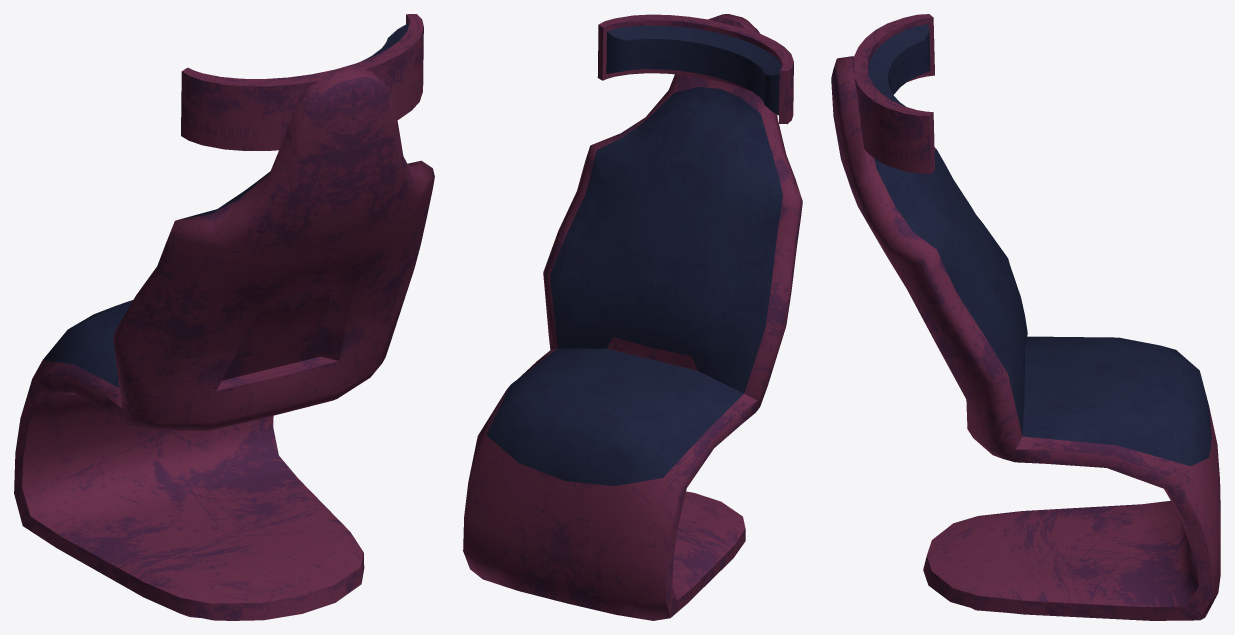
Rendered from Prop_Chair.gltf.
3 renders of one model, left to right at view 1: azimuth 30°, elevation 25°; view 2: azimuth 150°, elevation 25°; view 3: azimuth 270°, elevation 25°, orthographic. The views are drawn at different scales.
Parts seen in each view (by area): view 1: Prop_Chair; view 2: Prop_Chair; view 3: Prop_Chair.
Boxes of the visible parts, x1=… form: Prop_Chair: x1=14, y1=14, x2=434, y2=620; Prop_Chair: x1=463, y1=14, x2=802, y2=620; Prop_Chair: x1=831, y1=14, x2=1220, y2=620.
Size of the model in its own units: 0.8807 by 1.64 by 1.12.
Materials: 2 (2 with a texture image).
